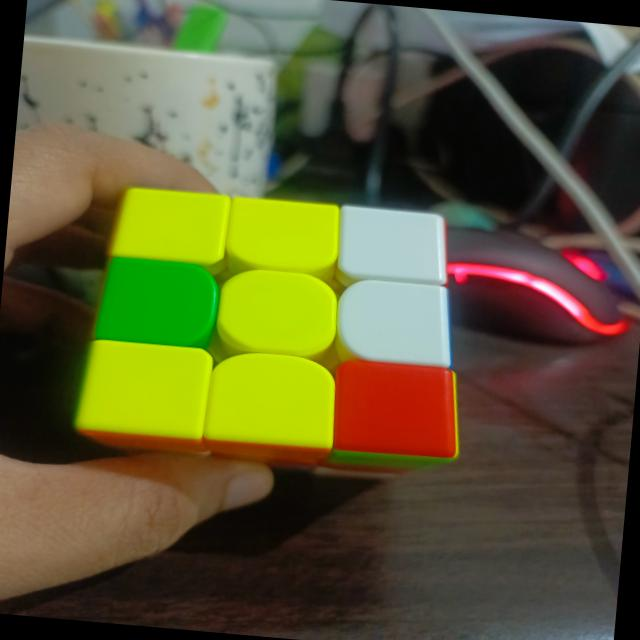rubik: (70, 180, 480, 480)
